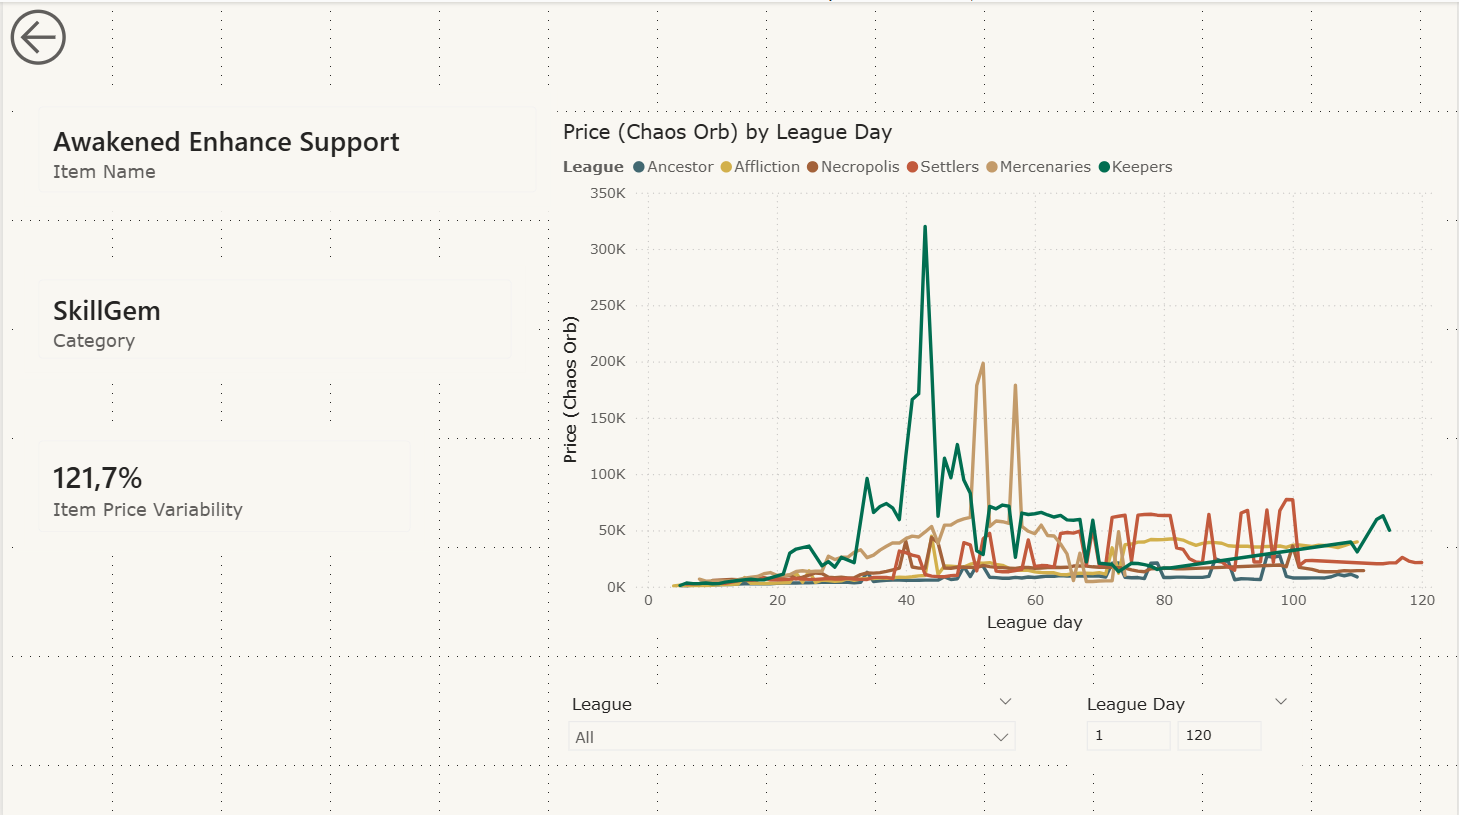

The dashboard page shown, as its layout file describes it:
{"tool":"powerbi","page":{"name":"Item detail","canvas":[1280,720],"ordinal":3},"visuals":[{"type":"actionButton","box":[0,0,118.9,62],"z":0},{"type":"cardVisual","fields":{"Data":["Min(dim_item.item_name)"]},"box":[14.1,74.9,473.8,110.1],"z":1000},{"type":"cardVisual","fields":{"Data":["Min(dim_item.category)"]},"box":[14.1,227.2,451.8,104.8],"z":2000},{"type":"cardVisual","fields":{"Data":["_Measures.Item Price Variability"]},"box":[14.1,369,362.9,115.4],"z":3000},{"type":"lineChart","title":"Price (Chaos Orb) by League Day","fields":{"Category":["fact_item_daily_top.league_day"],"Y":["Avg(fact_item_daily_top.price_chaos)"],"Series":["dim_league.league"]},"box":[487.9,103.9,778.6,455.3],"z":4000},{"type":"slicer","fields":{"Values":["dim_league.league"]},"box":[487.9,603.7,413.7,63.3],"z":5000},{"type":"slicer","fields":{"Values":["fact_item_daily_top.league_day"]},"box":[941.2,603.7,202.9,71.3],"z":5001}]}

Visuals, with their boxes in screenshot pixels (x1, y1, x2, y2), scaled from the page's 1280x720 canvas onto the 1459x815 screenshot:
actionButton: box=[0, 0, 136, 70]
cardVisual - Min(dim_item.item_name): box=[16, 85, 556, 209]
cardVisual - Min(dim_item.category): box=[16, 257, 531, 376]
cardVisual - _Measures.Item Price Variability: box=[16, 418, 430, 548]
"Price (Chaos Orb) by League Day" lineChart: box=[556, 118, 1444, 633]
slicer - dim_league.league: box=[556, 683, 1028, 755]
slicer - fact_item_daily_top.league_day: box=[1073, 683, 1304, 764]
